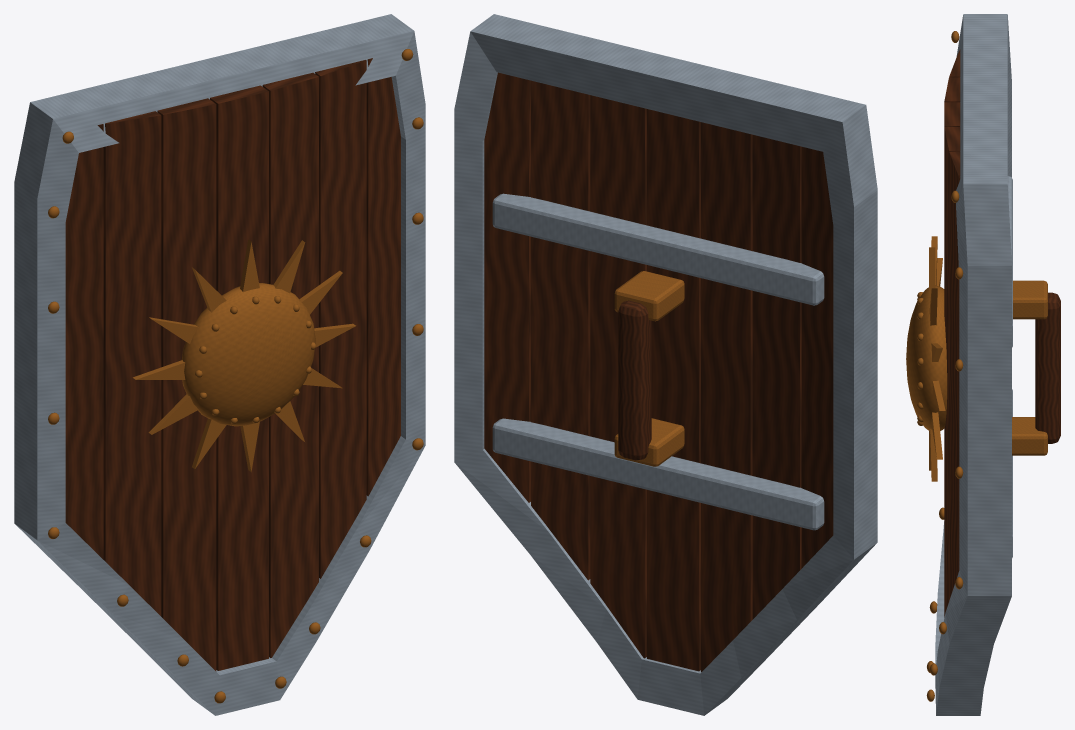
The model's file is escudo.glb.
3 views of the same model, side by side, from view 1: azimuth 30°, elevation 25°; view 2: azimuth 150°, elevation 25°; view 3: azimuth 270°, elevation 25° (orthographic). The views are drawn at different scales.
Visible parts, largest first — view 1: WEB_Madera, WEB_Acero, WEB_Bronce; view 2: WEB_Madera, WEB_Acero, WEB_Bronce; view 3: WEB_Acero, WEB_Madera, WEB_Bronce.
Part boxes in pixels (box(x1,y1,x2,y2)): WEB_Madera: box(65, 58, 400, 671); WEB_Acero: box(14, 14, 425, 715); WEB_Bronce: box(48, 49, 423, 703); WEB_Madera: box(484, 72, 833, 671); WEB_Acero: box(454, 14, 877, 715); WEB_Bronce: box(614, 271, 684, 466); WEB_Acero: box(935, 14, 1012, 715); WEB_Madera: box(944, 49, 1060, 617); WEB_Bronce: box(906, 31, 1047, 701).
Bounding box in the file's own units: 1.27 × 1.94 × 0.4525.
3 materials, 3 textured.
